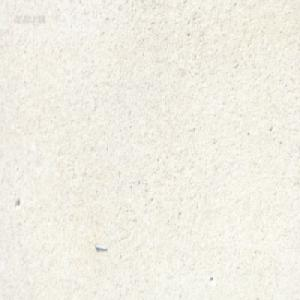Nail: (93, 241, 108, 251)
